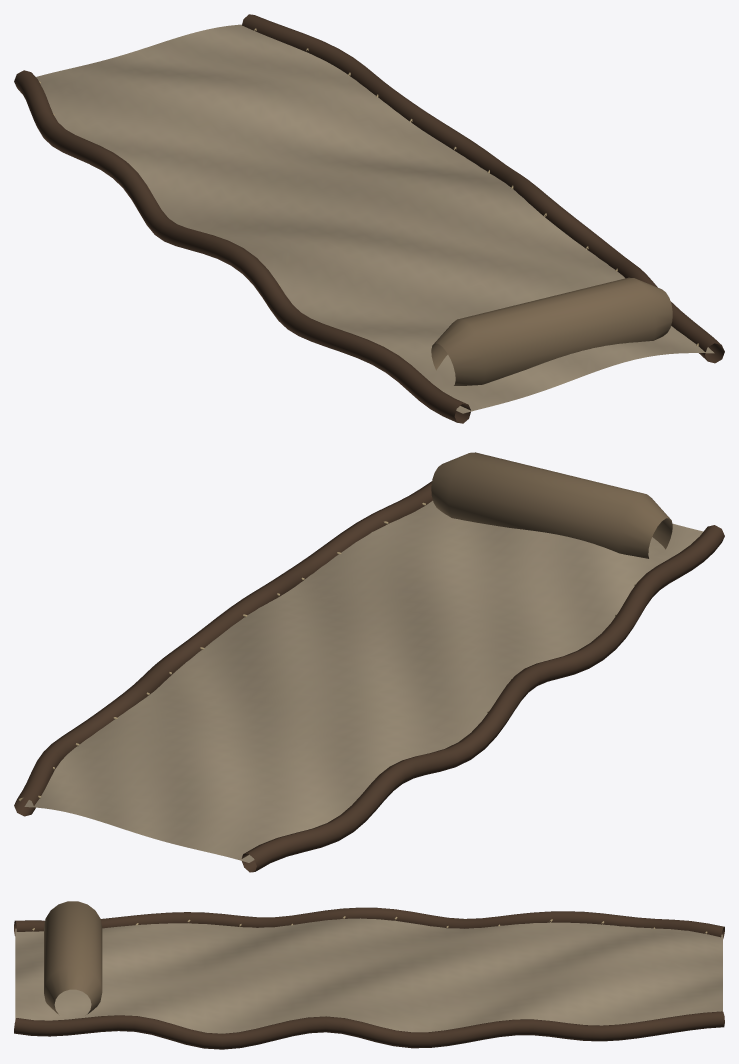
File: boar_bedding.glb
3 renders of one model, top to bottom at view 1: azimuth 30°, elevation 25°; view 2: azimuth 150°, elevation 25°; view 3: azimuth 270°, elevation 25°, orthographic. The views are drawn at different scales.
Parts seen in each view (by area): view 1: boar_bedding; view 2: boar_bedding; view 3: boar_bedding.
Part boxes in pixels (box(x1,y1,x2,y2)): boar_bedding: box(14, 14, 724, 423); boar_bedding: box(14, 452, 724, 872); boar_bedding: box(14, 901, 724, 1049).
Size of the model in its own units: 0.7669 by 0.1644 by 1.85.
